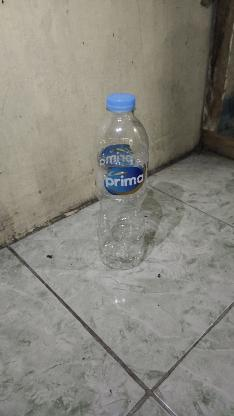Plastic Bottle: (94, 92, 150, 314)
